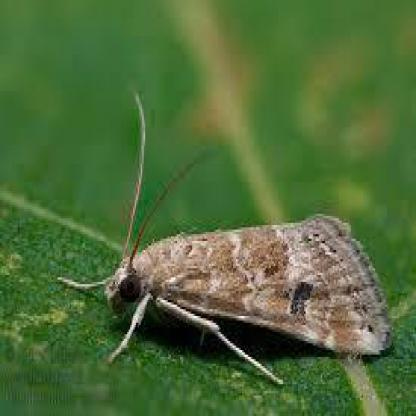Hellula undalis: (52, 75, 398, 390)
